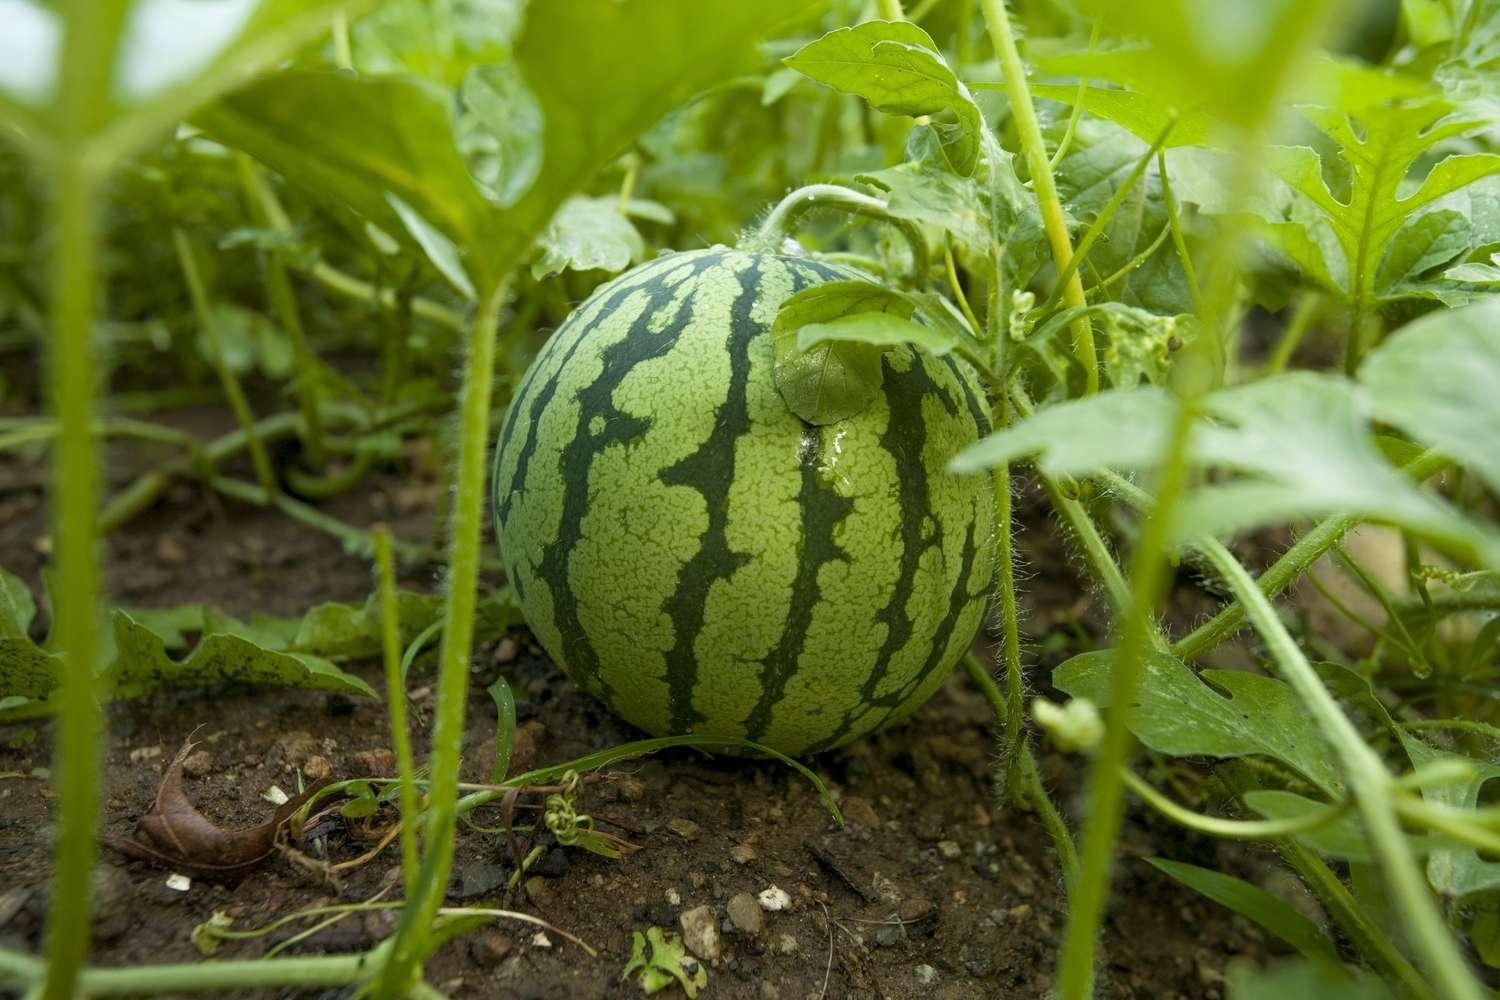watermelon: (470, 229, 1037, 783)
